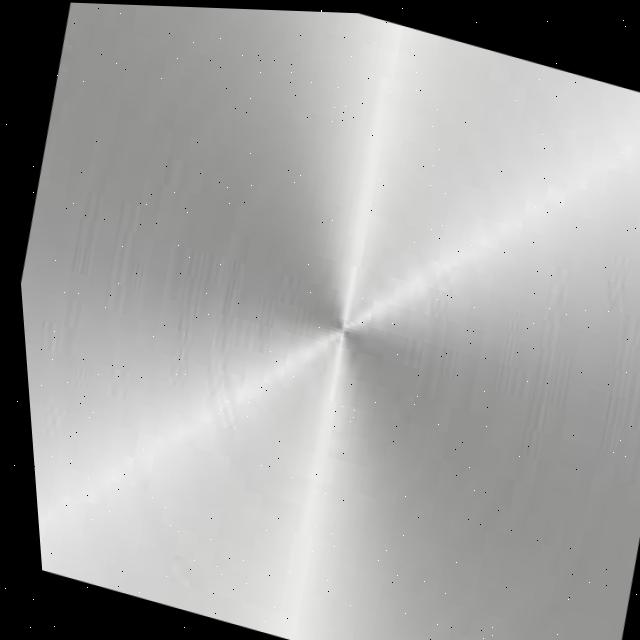Dry: (244, 126, 539, 521), (15, 257, 282, 619), (424, 344, 640, 640), (28, 1, 227, 264), (181, 5, 359, 294), (219, 472, 465, 640), (329, 10, 574, 175), (525, 76, 640, 349)
